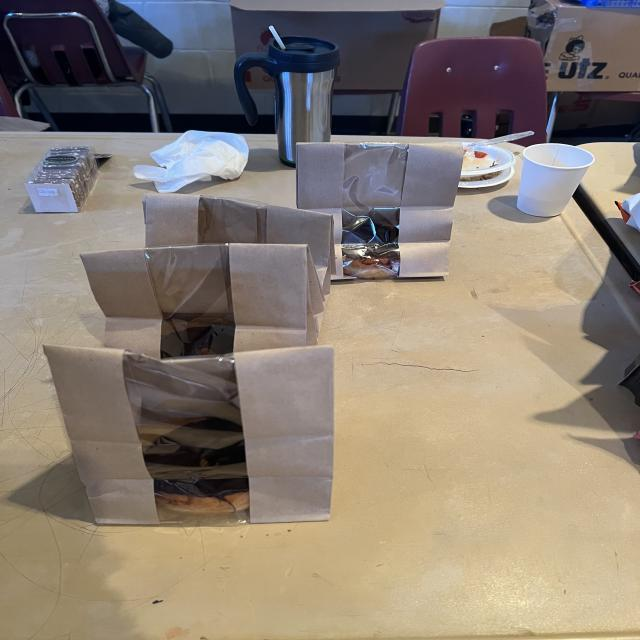Bread: (43, 345, 333, 525), (82, 244, 323, 358), (297, 141, 462, 279), (143, 194, 335, 294), (25, 146, 98, 212)
